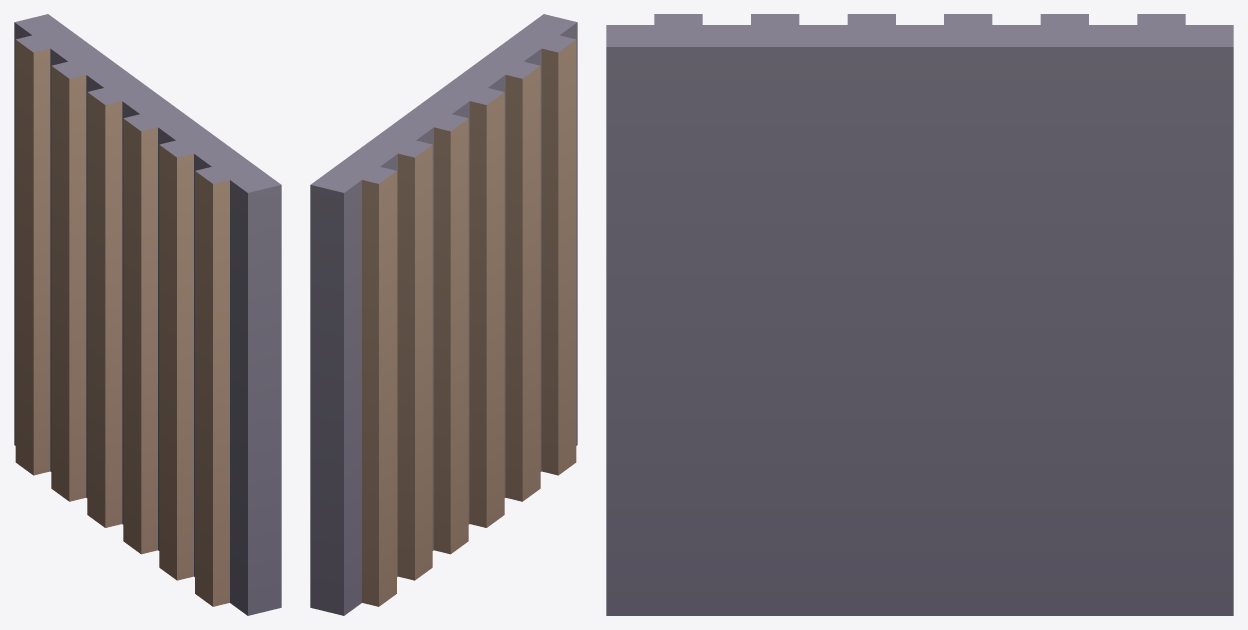
File: wood-panel-thin (%wall).glb
3 views of the same model, side by side, from view 1: azimuth 30°, elevation 25°; view 2: azimuth 150°, elevation 25°; view 3: azimuth 270°, elevation 25° (orthographic). The views are drawn at different scales.
Parts seen in each view (by area): view 1: wood-panel-thin (%wall); view 2: wood-panel-thin (%wall); view 3: wood-panel-thin (%wall).
Part boxes in pixels (box(x1,y1,x2,y2)): wood-panel-thin (%wall): box(14, 14, 281, 615); wood-panel-thin (%wall): box(310, 14, 577, 615); wood-panel-thin (%wall): box(606, 14, 1233, 615).
Bounding box in the file's own units: 0.075 × 0.6 × 0.6.
